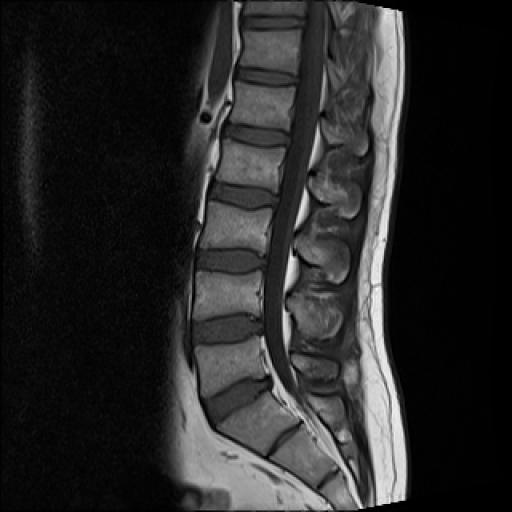L1: (230, 84, 294, 130)
L2: (218, 142, 284, 192)
L3: (200, 202, 270, 254)
L4: (193, 270, 262, 320)
L5: (195, 336, 266, 396)
S1: (217, 391, 299, 456)
